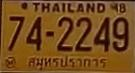2: (74, 16, 92, 51), (57, 16, 72, 51)
4: (93, 16, 109, 51), (26, 16, 42, 50)
7: (8, 15, 24, 50)
9: (112, 16, 128, 51)
SPK: (24, 53, 110, 72)
